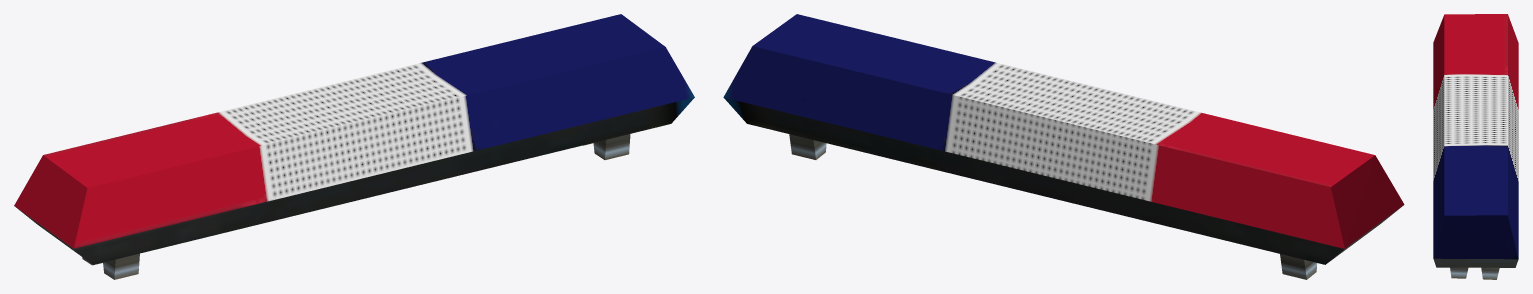
The model's file is sirene.obj.
3 renders of one model, left to right at view 1: azimuth 30°, elevation 25°; view 2: azimuth 150°, elevation 25°; view 3: azimuth 270°, elevation 25°, orthographic. The views are drawn at different scales.
Visible parts, largest first — view 1: obj1.086; view 2: obj1.086; view 3: obj1.086.
Boxes of the visible parts, x1,y1,x2,y2 form: obj1.086: (14,14,694,279); obj1.086: (723,14,1404,279); obj1.086: (1433,14,1518,279).
Bounding box in the file's own units: 1.33 × 0.2177 × 0.222.
1 material, 1 textured.
